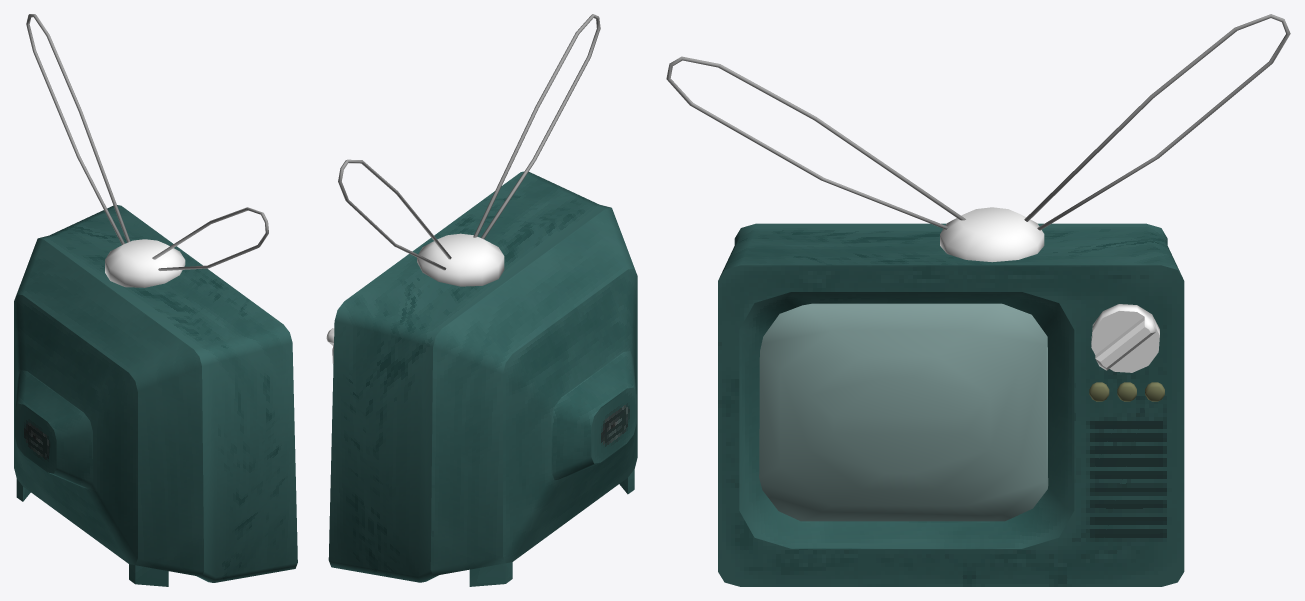
3 renders of one model, left to right at view 1: azimuth 30°, elevation 25°; view 2: azimuth 150°, elevation 25°; view 3: azimuth 270°, elevation 25°, orthographic. The views are drawn at different scales.
Parts seen in each view (by area): view 1: Buttons; view 2: Buttons; view 3: Buttons, Screen-noimp.
Boxes of the visible parts, x1,y1,x2,y2 form: Buttons: (14,14,297,586); Buttons: (326,14,637,586); Buttons: (666,14,1290,586); Screen-noimp: (759,303,1048,521).
Size of what is drawn, in the model's own units: 1.01 by 2.15 by 2.24.
Materials: 5 (1 with a texture image).
